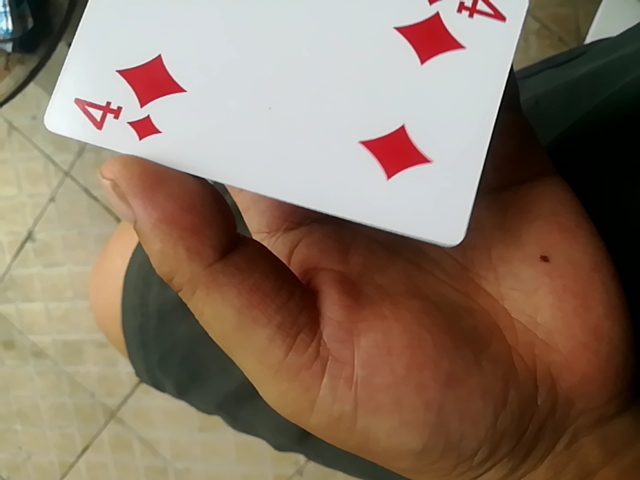fk 4: (43, 1, 536, 256)
